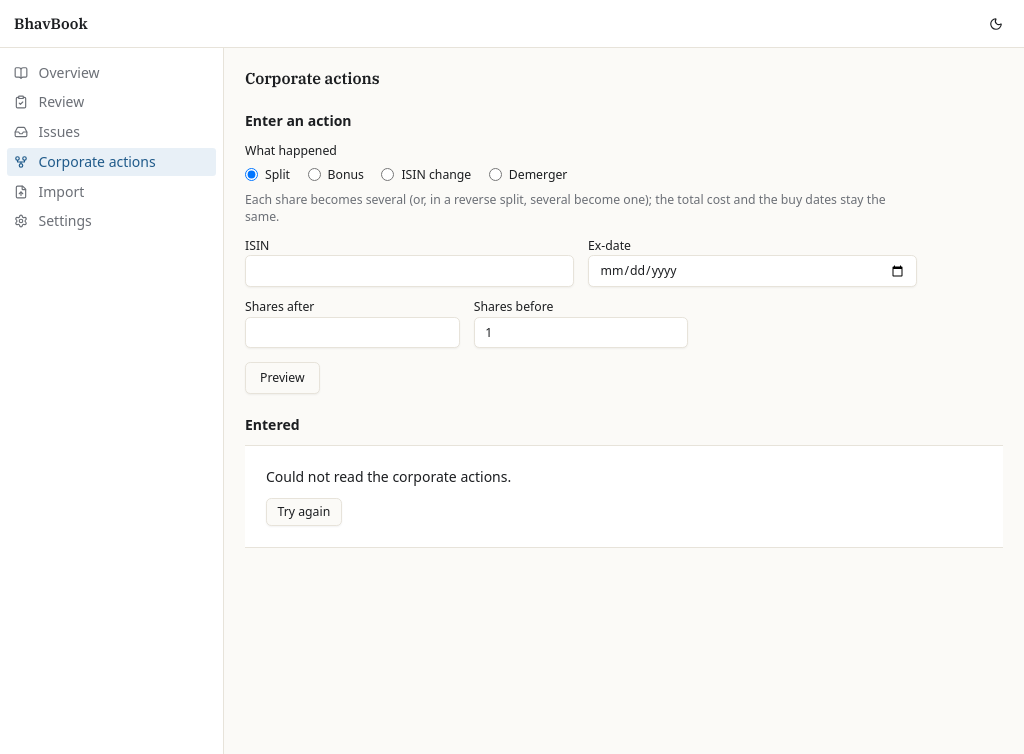
Scenario: the corporate actions page › clears the preview when a field changes, so nothing unpreviewed is saved
Type "INE155A01022" into the field labelled "ISIN".
click(410, 271); type("INE155A01022")  # box [245, 255, 574, 287]
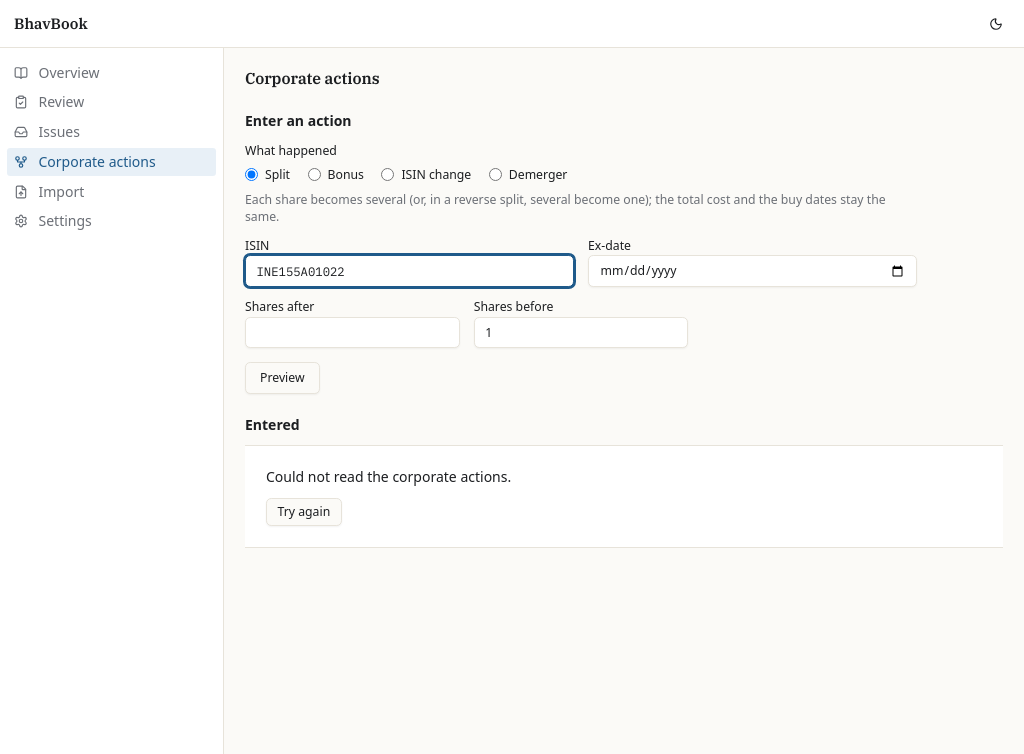
Type "2025-10-14" into the date field labelled "Ex-date".
click(752, 271); type("2025-10-14")  # box [588, 255, 917, 287]
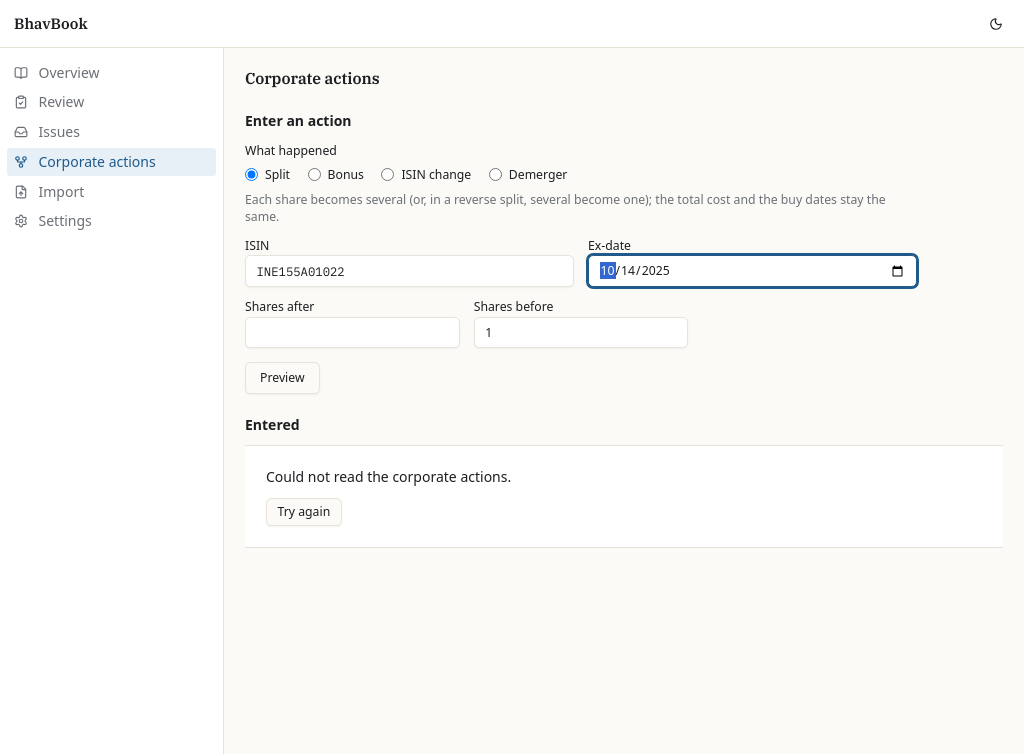
Type "5" into the field labelled "Shares after".
click(352, 332); type("5")  # box [245, 316, 460, 348]
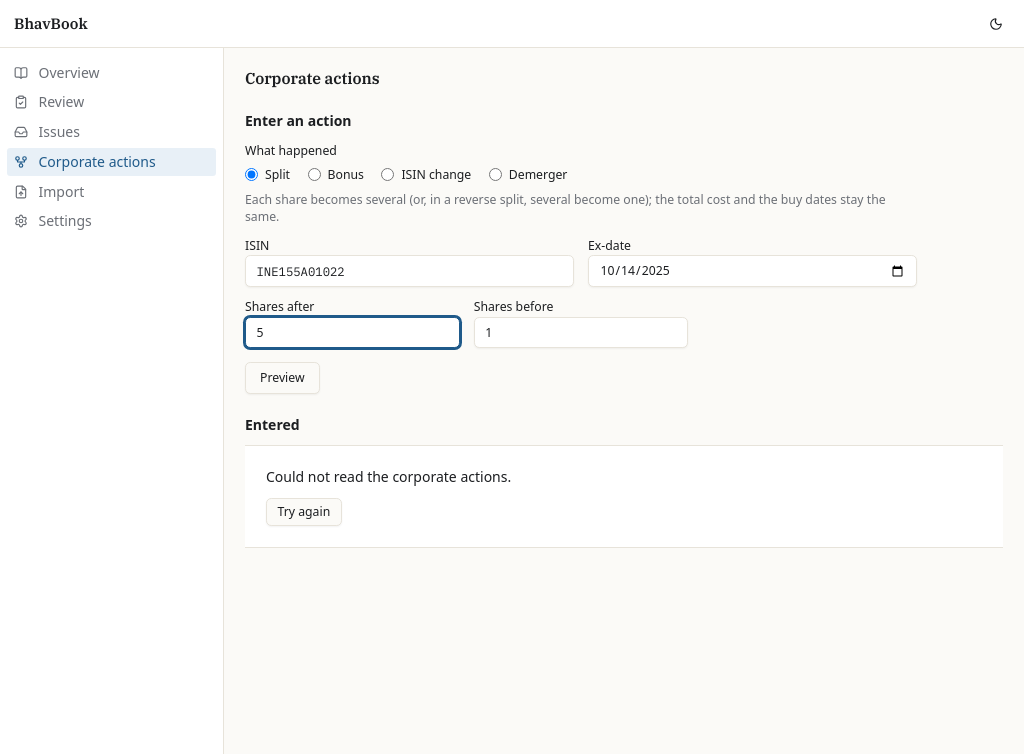
Click the button "Preview".
click(282, 378)  # box [245, 362, 320, 394]
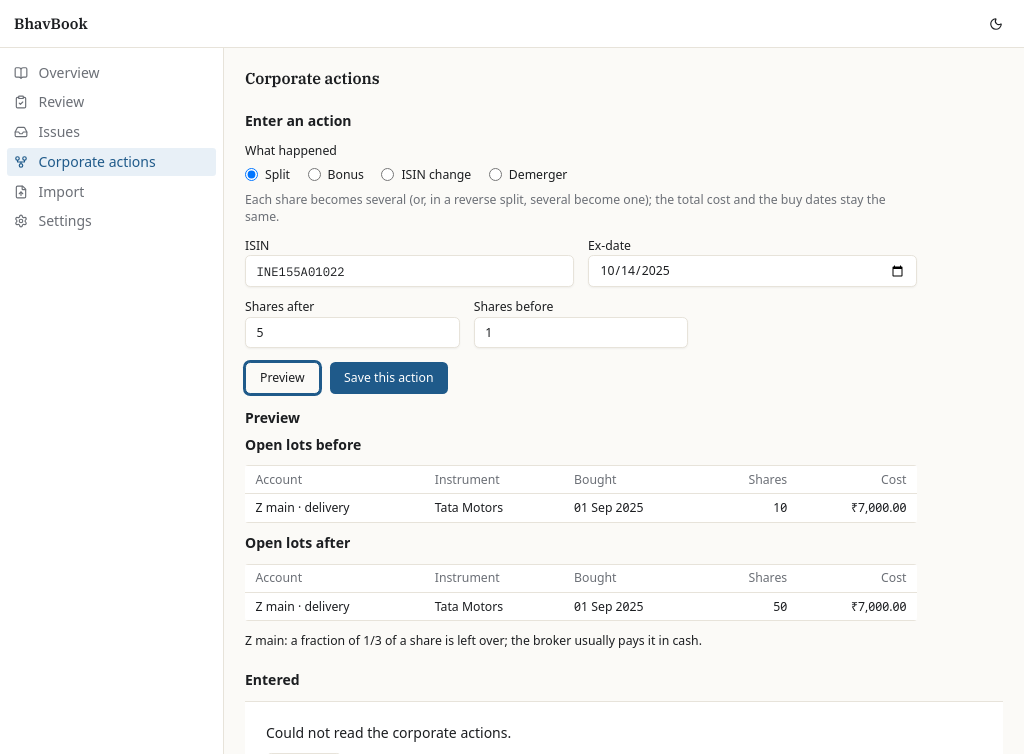
Check: the button "Save this action" is shown, box [330, 362, 448, 394]
Type "0" into the field labelled "Shares after".
click(352, 332); type("0")  # box [245, 316, 460, 348]
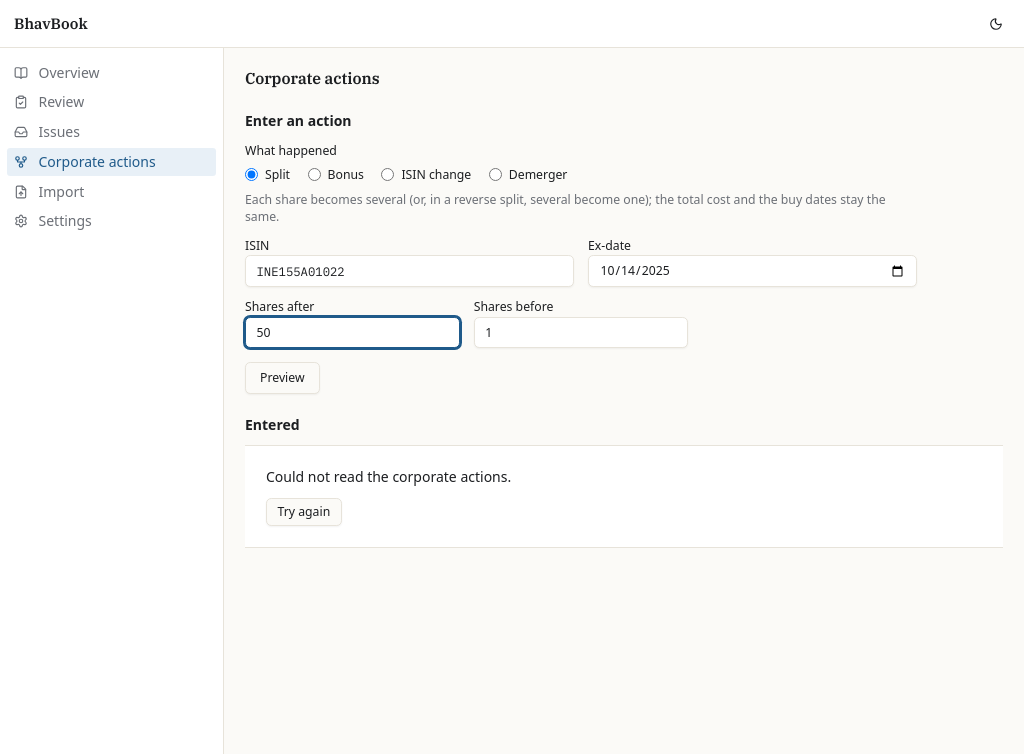
Check: the button "Save this action" is gone
